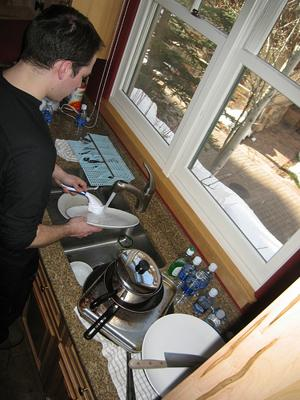person: (1, 1, 106, 354)
